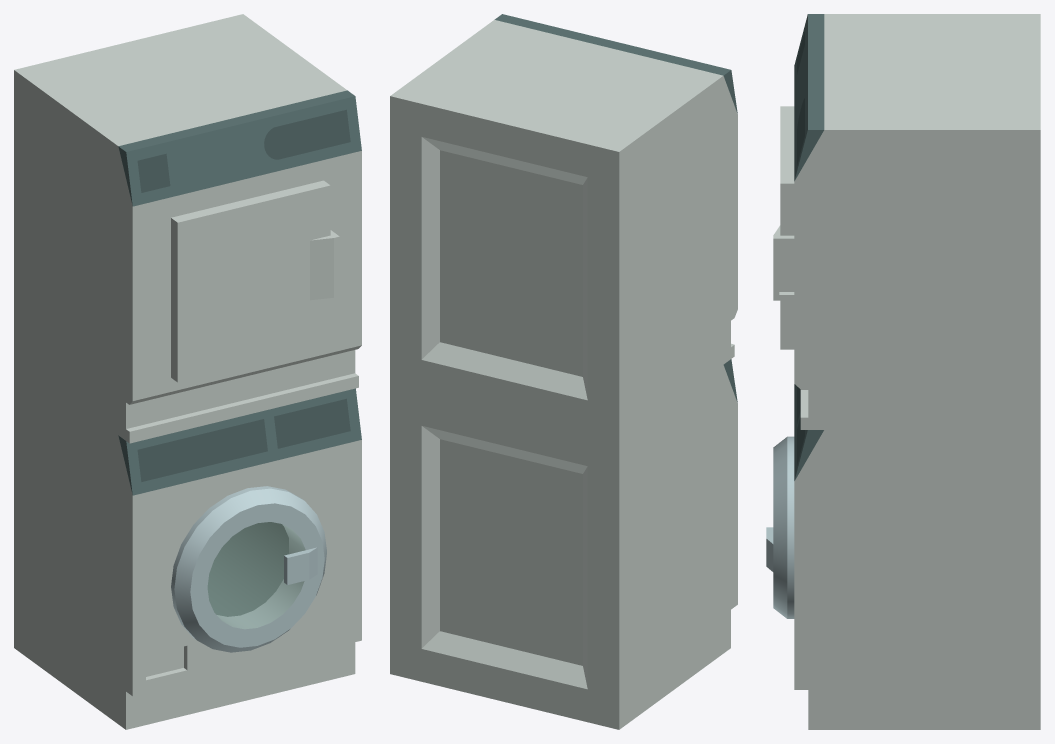
The model's file is washer-dryer.e34f5c25.glb.
The picture shows the model from 3 angles, left to right: view 1: azimuth 30°, elevation 25°; view 2: azimuth 150°, elevation 25°; view 3: azimuth 270°, elevation 25°; orthographic projection. The views are drawn at different scales.
Parts seen in each view (by area): view 1: model; view 2: model; view 3: model.
Part boxes in pixels (<box>): model: <box>14,14,361,729</box>; model: <box>390,14,737,729</box>; model: <box>766,14,1040,729</box>.
Bounding box in the file's own units: 0.819 × 1.97 × 0.819.
